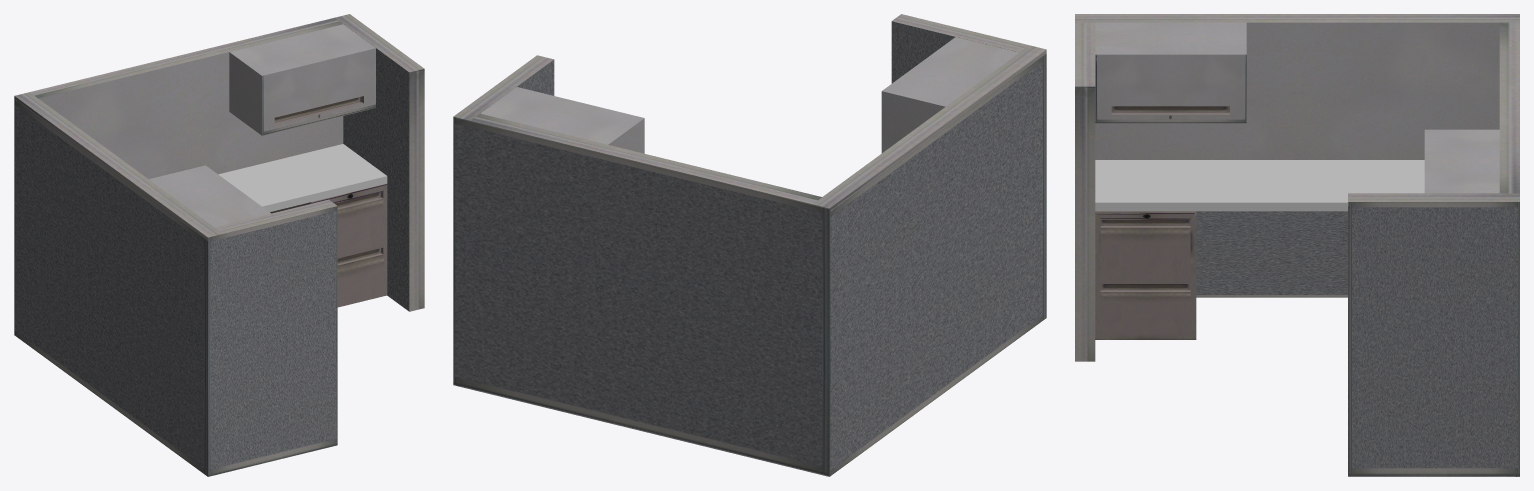
The model's file is cubicle 1.fbx.
The picture shows the model from 3 angles, left to right: view 1: azimuth 30°, elevation 25°; view 2: azimuth 150°, elevation 25°; view 3: azimuth 270°, elevation 25°; orthographic projection. The views are drawn at different scales.
Parts seen in each view (by area): view 1: polySurface7, Regroup01, wood; view 2: Regroup01, polySurface7; view 3: Regroup01, polySurface7, Regroup02, wood.
Boxes of the visible parts, x1,y1,x2,y2 form: polySurface7: (14,92,337,476); Regroup01: (30,14,424,311); wood: (218,144,387,211); Regroup01: (453,55,821,472); polySurface7: (812,14,1046,476); Regroup01: (1348,22,1519,476); polySurface7: (1075,14,1519,361); Regroup02: (1095,22,1499,159); wood: (1095,160,1424,211).
Size of the model in its own units: 4.4 by 3 by 4.4.
